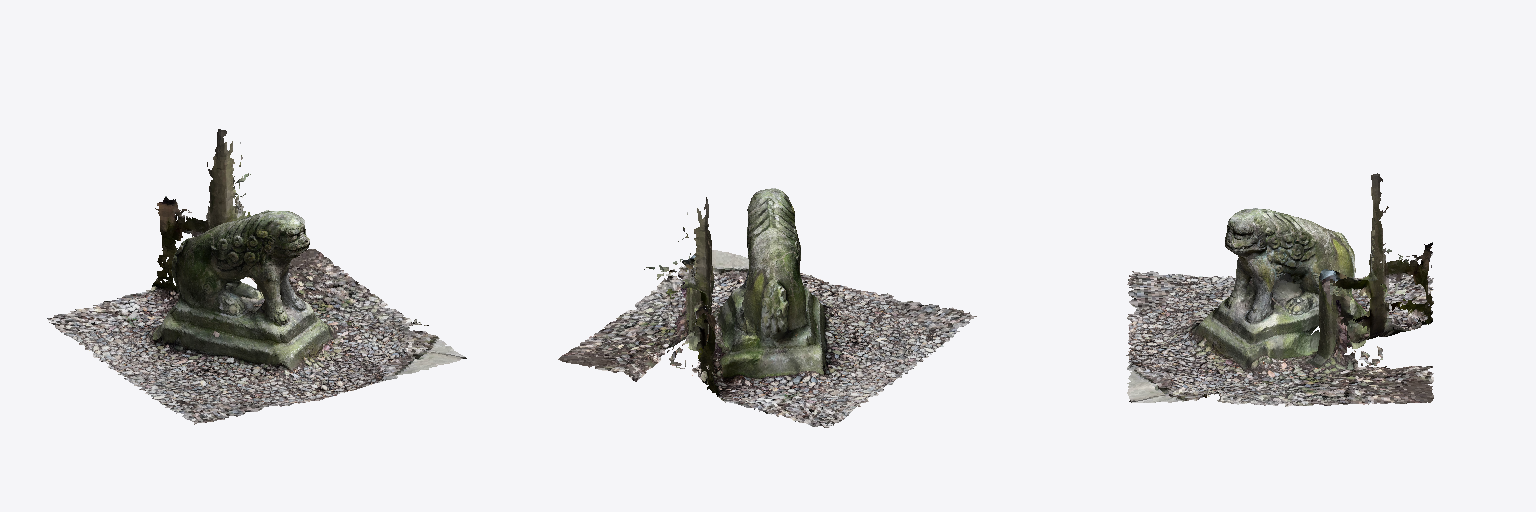
The picture shows the model from 3 angles: view 1: azimuth 30°, elevation 25°; view 2: azimuth 150°, elevation 25°; view 3: azimuth 270°, elevation 25°; orthographic projection.
Bounding box in the file's own units: 1.58 × 0.9805 × 1.54.
25 materials, 25 textured.